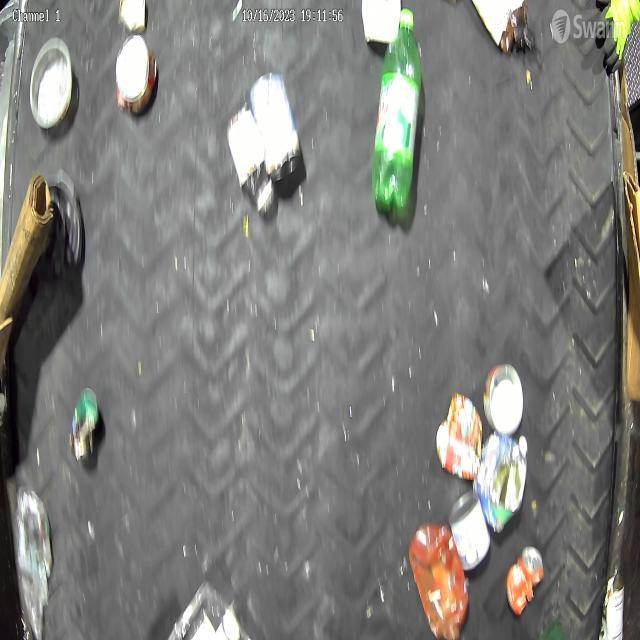can: (249, 70, 303, 186), (114, 31, 158, 119), (449, 486, 492, 576), (482, 360, 527, 435), (504, 543, 546, 617), (599, 570, 626, 640)
non_white_jug: (408, 518, 469, 640)
plastic_bottle: (16, 484, 52, 640)
